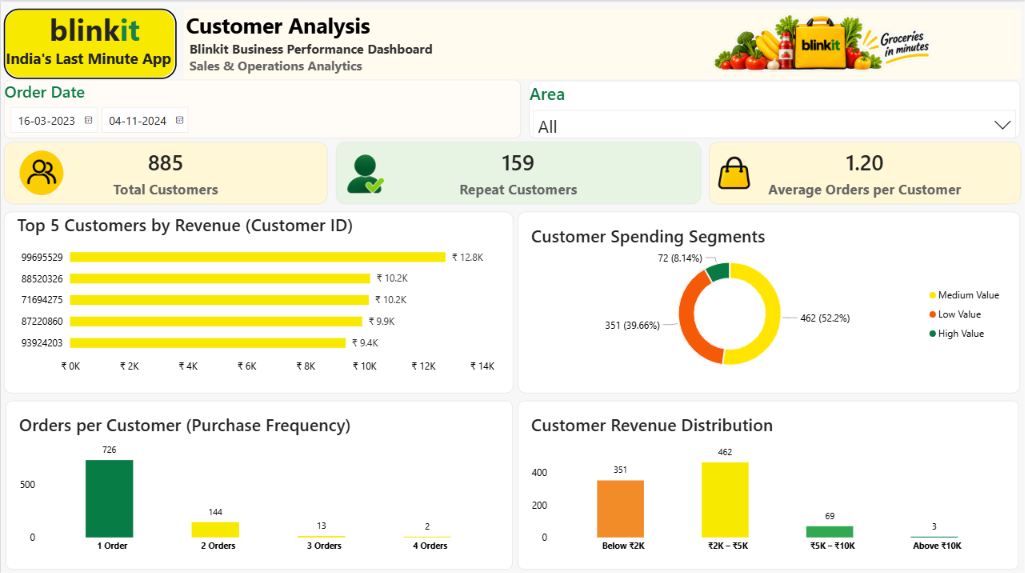

This screenshot's page, from the dashboard's own definition file:
{"tool":"powerbi","page":{"name":"Customer Analysis","canvas":[1280,720],"ordinal":2},"visuals":[{"type":"slicer","title":"Order Date","fields":{"Values":["blinkit_orders.order_date"]},"box":[3.7,96.9,646.6,73.6],"z":0},{"type":"slicer","title":"   Area","fields":{"Values":["blinkit_customers.area"]},"box":[660.1,98.2,614.7,72.4],"z":1000},{"type":"card","fields":{"Values":["blinkit_customers.Total Customers"]},"box":[3.7,175.5,404.9,78.5],"z":2000},{"type":"card","fields":{"Values":["blinkit_customer_feedback.Repeat Customers"]},"box":[418.4,175.5,456.4,78.5],"z":3000},{"type":"card","fields":{"Values":["blinkit_customer_feedback.Average Orders per Customer"]},"box":[884.7,175.5,390.2,78.5],"z":4000},{"type":"image","box":[16,184.1,69.9,61.4],"z":5000},{"type":"image","box":[418.4,179.1,74.8,71.2],"z":6000},{"type":"image","box":[884.7,187.7,63.8,52.8],"z":7000},{"type":"clusteredBarChart","title":"Top 5 Customers by Revenue (Customer ID)","fields":{"Category":["blinkit_orders.customer_id"],"Y":["blinkit_orders.Total_Revenue"]},"box":[3.7,262.6,636.8,227],"z":8000},{"type":"donutChart","title":"Customer Spending Segments","fields":{"Category":["Customer Segments.Segment"],"Y":["Customer Segments.Customers by Spending Segment"]},"box":[646.6,262.6,628.2,227],"z":9000},{"type":"clusteredColumnChart","title":"Orders per Customer (Purchase Frequency)","fields":{"Category":["Customer Frequency Groups.Frequency"],"Y":["Customer Frequency Groups.Dynamic Customers by Frequency"]},"box":[6.2,498.8,633.8,211.2],"z":10000},{"type":"clusteredColumnChart","title":"Customer Revenue Distribution","fields":{"Category":["Customer Revenue Groups.Revenue Range"],"Y":["Customer Revenue Groups.Dynamic Customers by Revenue Range"]},"box":[646.2,498.8,626.2,211.2],"z":11000},{"type":"shape","box":[3.7,8.6,216,88.3],"z":12000},{"type":"textbox","box":[6.1,8.6,222.1,79.8],"z":13000},{"type":"shape","box":[228.2,8.6,1046.6,88.3],"z":14000},{"type":"image","box":[760.7,0,519,96.9],"z":15000},{"type":"textbox","box":[213.5,0,531.3,73.6],"z":16000},{"type":"textbox","box":[213.5,28.2,446.6,83.4],"z":17000}]}

Visuals, with their boxes in screenshot pixels (x1, y1, x2, y2), scaled from the page's 1280x720 canvas onto the 1025x573 screenshot:
"Order Date" slicer: 3 77 521 136
"   Area" slicer: 529 78 1021 136
card - blinkit_customers.Total Customers: 3 140 327 202
card - blinkit_customer_feedback.Repeat Customers: 335 140 701 202
card - blinkit_customer_feedback.Average Orders per Customer: 708 140 1021 202
image: 13 147 69 195
image: 335 143 395 199
image: 708 149 760 191
"Top 5 Customers by Revenue (Customer ID)" clusteredBarChart: 3 209 513 390
"Customer Spending Segments" donutChart: 518 209 1021 390
"Orders per Customer (Purchase Frequency)" clusteredColumnChart: 5 397 512 565
"Customer Revenue Distribution" clusteredColumnChart: 517 397 1019 565
shape: 3 7 176 77
textbox: 5 7 183 70
shape: 183 7 1021 77
image: 609 0 1024 77
textbox: 171 0 596 59
textbox: 171 22 529 89
